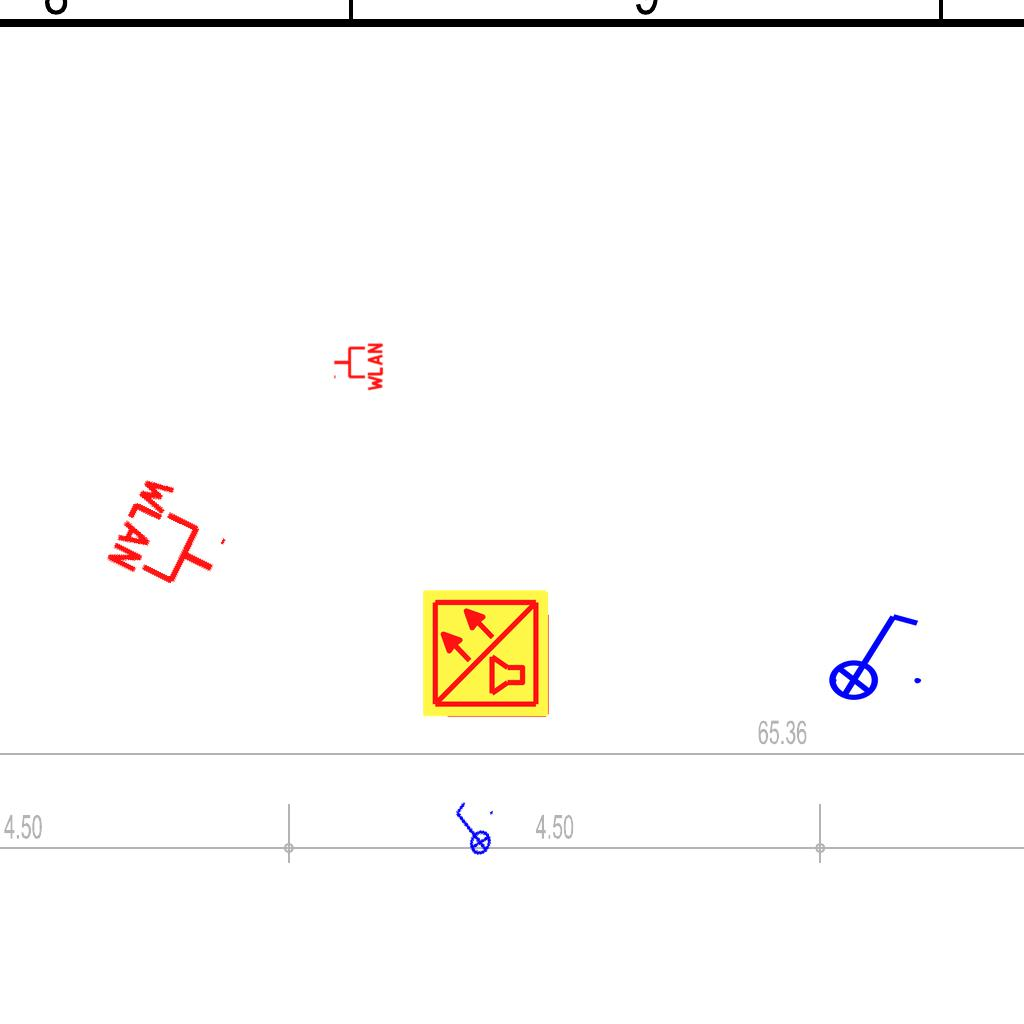Ausschalter_beleuchtet: (815, 606, 927, 702), (438, 795, 504, 865)
OKW_Multisensormelder_(Kombination_optischer_Rauch-Kahlenmonoxid_Waerme-Melder): (420, 587, 552, 719)
WLAN: (102, 469, 243, 609), (332, 341, 384, 393)
